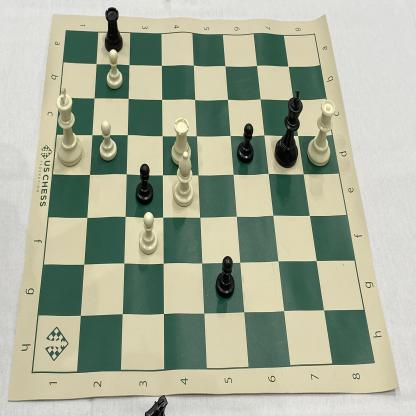black-king: (272, 86, 306, 171)
black-pawn: (212, 252, 239, 301), (133, 160, 156, 209), (234, 118, 256, 167)
black-rook: (100, 4, 126, 56)
white-bishop: (171, 150, 198, 212)
white-king: (53, 81, 86, 169)
white-pawn: (135, 209, 162, 259), (96, 118, 121, 167), (103, 49, 127, 94)
white-queen: (306, 94, 338, 170)
white-rook: (169, 110, 194, 168)
